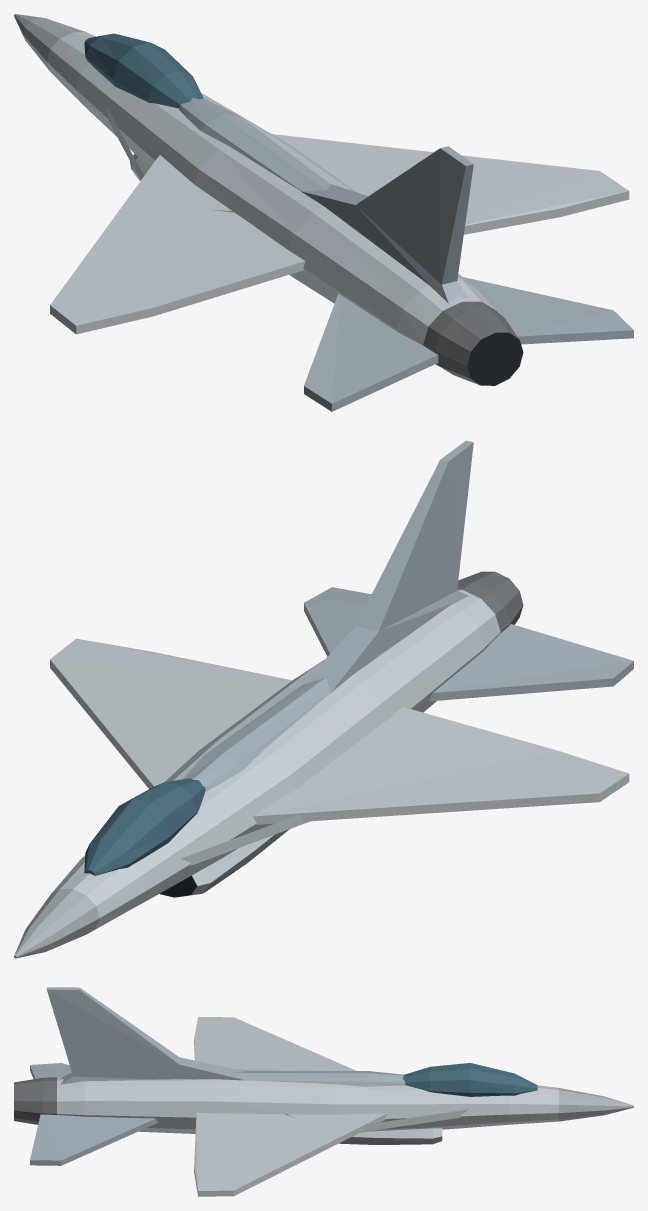
3 renders of one model, top to bottom at view 1: azimuth 30°, elevation 25°; view 2: azimuth 150°, elevation 25°; view 3: azimuth 270°, elevation 25°, orthographic. The views are drawn at different scales.
Parts seen in each view (by area): view 1: F-16IN; view 2: F-16IN; view 3: F-16IN.
Part boxes in pixels (box(x1,y1,x2,y2)): F-16IN: box(14, 14, 633, 411); F-16IN: box(14, 440, 633, 958); F-16IN: box(14, 987, 633, 1196).
Size of the model in its own units: 10 by 4.07 by 15.03.
